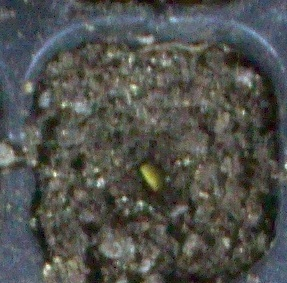chilli seed: (139, 162, 165, 192)
